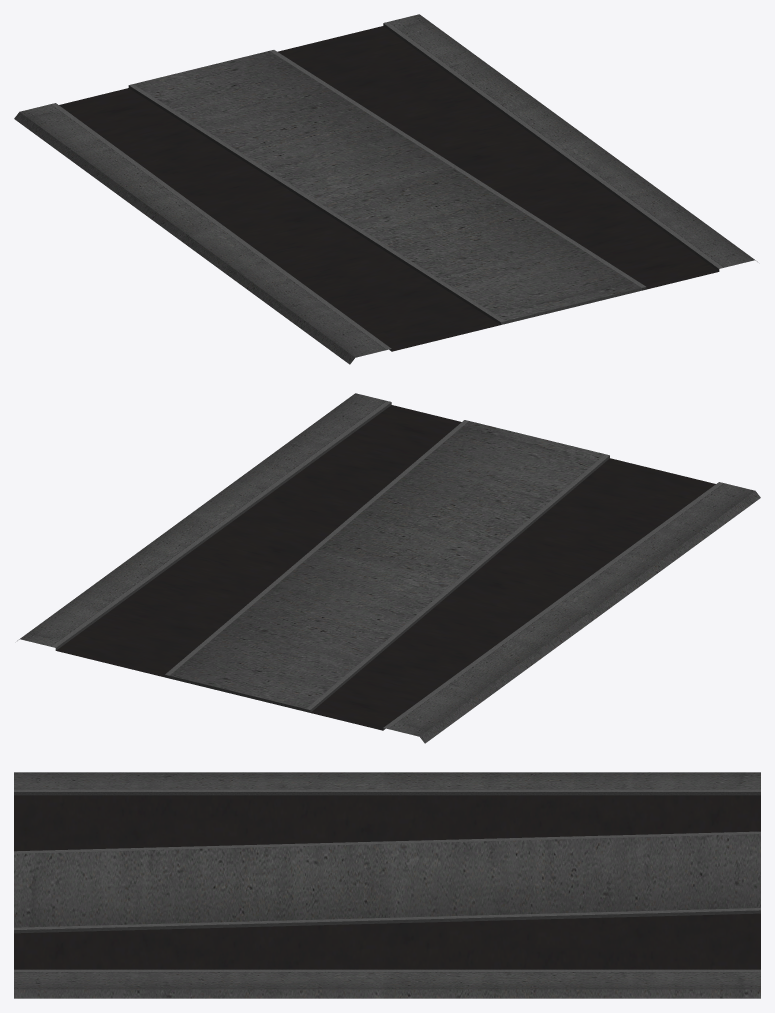
File: RJs_Road Pass 2+4+2 Basic Segment_L_3.fbx
The picture shows the model from 3 angles, top to bottom: view 1: azimuth 30°, elevation 25°; view 2: azimuth 150°, elevation 25°; view 3: azimuth 270°, elevation 25°; orthographic projection. The views are drawn at different scales.
Visible parts, largest first — view 1: plane; view 2: plane; view 3: plane.
Part boxes in pixels (bbox=[...]): plane: bbox=[14, 14, 757, 364]; plane: bbox=[17, 393, 760, 743]; plane: bbox=[14, 772, 760, 998].
Size of the model in its own units: 4520 by 60.1 by 6400.
